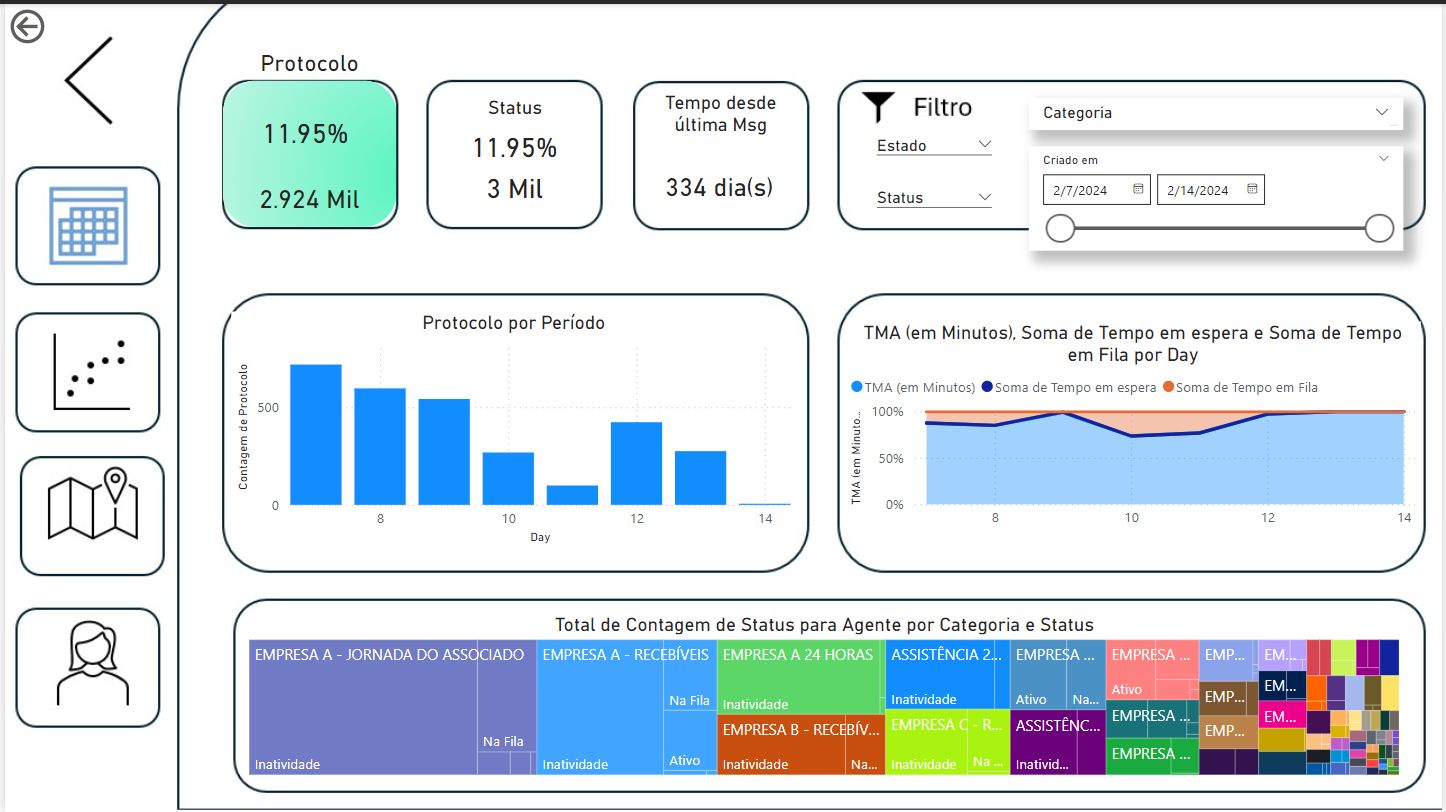

What the dashboard file says about the page in this screenshot:
{"tool":"powerbi","page":{"name":"Geral","canvas":[1280,720],"ordinal":1},"visuals":[{"type":"cardVisual","title":"Status","fields":{"Data":["Sheet1.Total de Contagem de Status para Criado em"]},"box":[388.5,82.4,131.4,113.2],"z":0},{"type":"slicer","fields":{"Values":["Sheet1.Status"]},"box":[763.2,159.1,128.3,27.4],"z":1000},{"type":"slicer","fields":{"Values":["Sheet1.Estado"]},"box":[763.2,112.9,128.3,27.4],"z":2000},{"type":"slicer","fields":{"Values":["Sheet1.Categoria"]},"box":[912.1,83.9,333.7,29.1],"z":3000},{"type":"cardVisual","title":"Tempo desde última Msg","fields":{"Data":["Sheet1.Tempo Desde Ultima Msg Legivel"]},"box":[571.5,78.3,132.8,114.6],"z":4000},{"type":"slicer","fields":{"Values":["Sheet1.Criado em"]},"box":[912.1,126.6,333.7,92.4],"z":5000},{"type":"columnChart","title":"Protocolo por Período","fields":{"Category":["Sheet1.Criado em.Variation.Date Hierarchy.Month","Sheet1.Criado em.Variation.Date Hierarchy.Day"],"Y":["Count(Sheet1.Protocolo)"]},"box":[201.9,273.8,503.1,212.2],"z":6000},{"type":"shape","box":[8.2,144.1,134.5,100.2],"z":7000},{"type":"shape","box":[16.5,403.4,118,100.2],"z":8000},{"type":"shape","box":[16.5,542,118,91.9],"z":9000},{"type":"shape","box":[8.2,282.7,126.2,97.4],"z":10000},{"type":"shape","box":[0,8.3,135,118.3],"z":11000},{"type":"hundredPercentStackedAreaChart","fields":{"Category":["Sheet1.Criado em.Variation.Date Hierarchy.Month","Sheet1.Criado em.Variation.Date Hierarchy.Day"],"Y":["Sheet1.TMA (em Minutos)","Sum(Sheet1.Tempo em espera)","Sum(Sheet1.Tempo em Fila)"]},"box":[747.6,282.3,512.8,192.8],"z":12000},{"type":"treemap","fields":{"Values":["Sheet1.Total de Contagem de Status para Agente"],"Details":["Sheet1.Status"],"Group":["Sheet1.Categoria"]},"box":[212.4,542.2,1034.1,149.5],"z":13000},{"type":"actionButton","box":[0,0,100,40],"z":14000},{"type":"card","fields":{"Values":["Sheet1.Percentual Status"]},"box":[398.3,107.6,110.4,39.1],"z":15000},{"type":"cardVisual","title":"Protocolo","fields":{"Data":["Count(Sheet1.Protocolo)"]},"box":[189.1,40.3,164.3,164],"z":16000},{"type":"card","fields":{"Values":["Sheet1.Percentual"]},"box":[212.3,94.5,110,40.3],"z":17000}]}

Visuals, with their boxes on the page's 1280x720 design canvas (x1, y1, x2, y2). These are canvas units, not pixel positions in the 1446x812 screenshot, which may show the page scaled, cropped or inside an application window:
"Status" cardVisual: (388, 82, 520, 196)
slicer - Sheet1.Status: (763, 159, 892, 186)
slicer - Sheet1.Estado: (763, 113, 892, 140)
slicer - Sheet1.Categoria: (912, 84, 1246, 113)
"Tempo desde última Msg" cardVisual: (572, 78, 704, 193)
slicer - Sheet1.Criado em: (912, 127, 1246, 219)
"Protocolo por Período" columnChart: (202, 274, 705, 486)
shape: (8, 144, 143, 244)
shape: (16, 403, 134, 504)
shape: (16, 542, 134, 634)
shape: (8, 283, 134, 380)
shape: (0, 8, 135, 127)
hundredPercentStackedAreaChart - Sheet1.Criado em.Variation.Date Hierarchy.Month x Sheet1.Criado em.Variation.Date Hierarchy.Day: (748, 282, 1260, 475)
treemap - Sheet1.Total de Contagem de Status para Agente x Sheet1.Status: (212, 542, 1246, 692)
actionButton: (0, 0, 100, 40)
card - Sheet1.Percentual Status: (398, 108, 509, 147)
"Protocolo" cardVisual: (189, 40, 353, 204)
card - Sheet1.Percentual: (212, 94, 322, 135)
